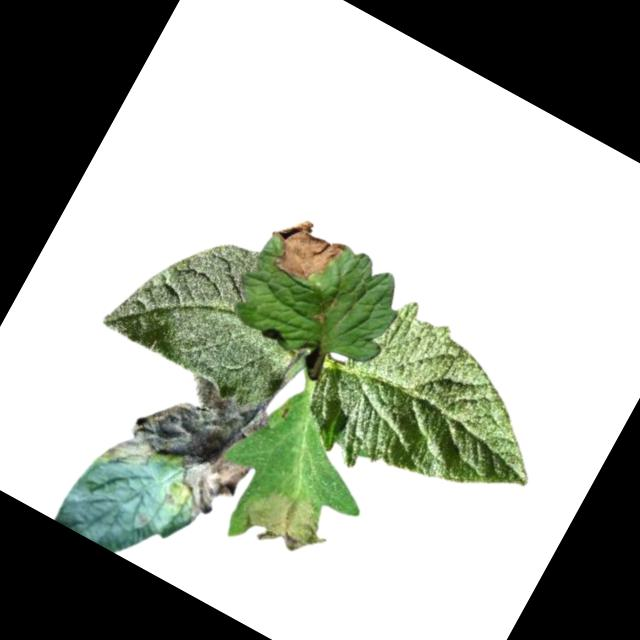Late_blight: (91, 351, 280, 537), (235, 476, 344, 571), (257, 207, 349, 294)
healthy: (289, 277, 579, 548), (99, 201, 334, 418)
